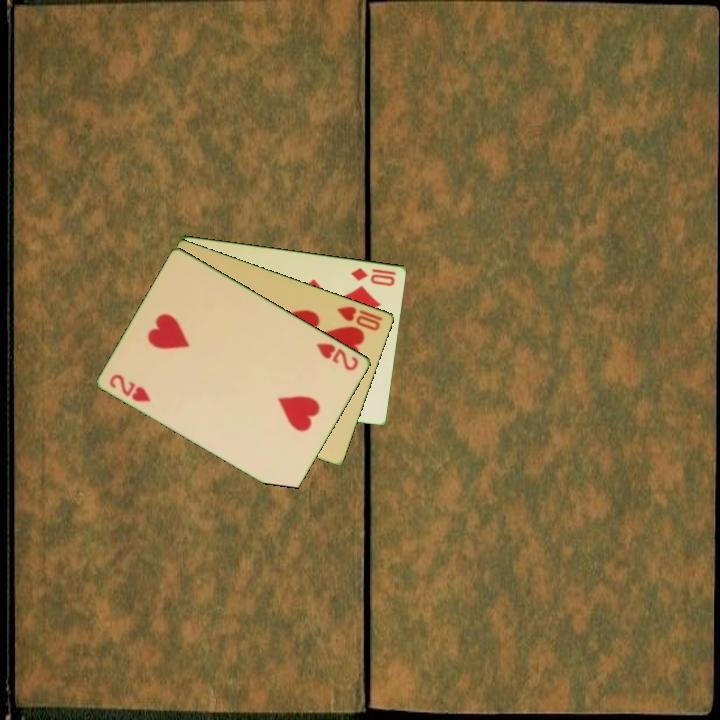10d: (348, 264, 399, 289)
10h: (334, 303, 386, 334)
2h: (313, 339, 362, 374), (106, 370, 154, 405)
